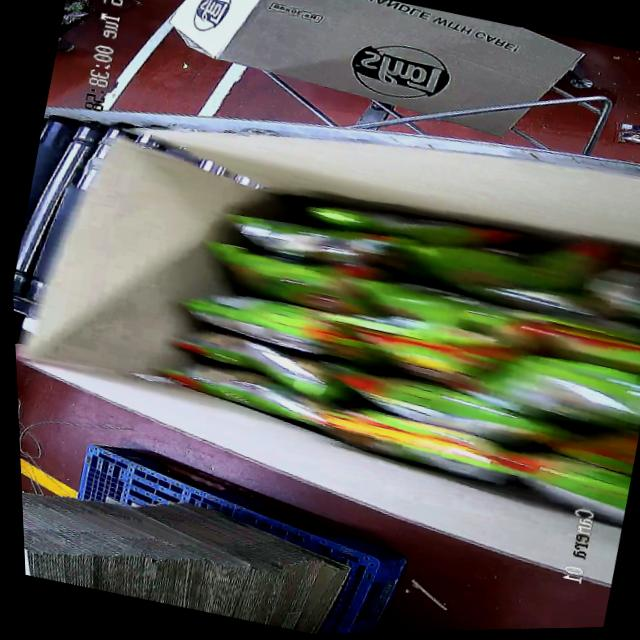YOGURT_HERB: (138, 151, 640, 507)
